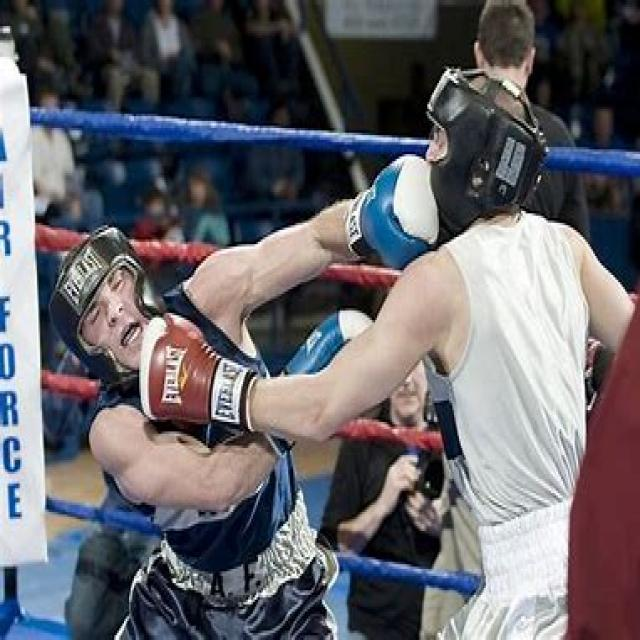fight: (44, 92, 599, 474)
